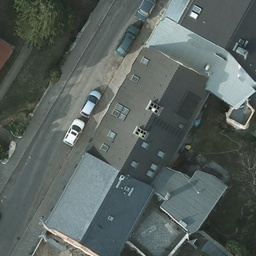car: (81, 82, 106, 119), (116, 26, 139, 57), (63, 118, 85, 145), (138, 1, 157, 16)
